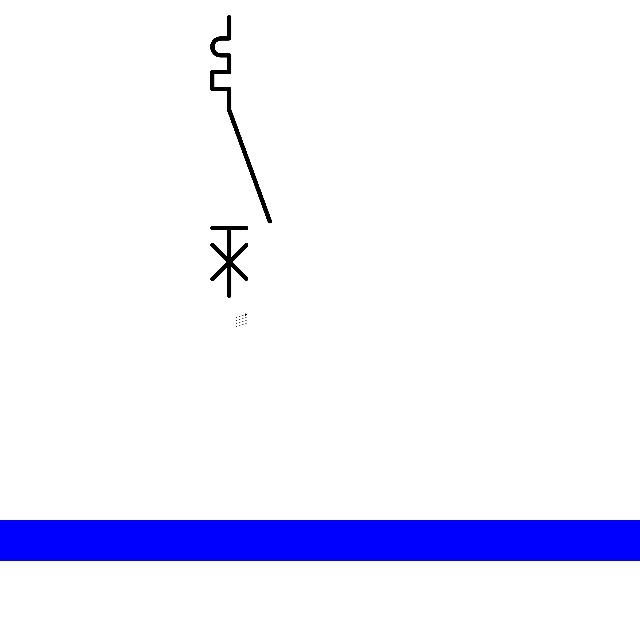interruptor_termomagnetico: (205, 10, 276, 303)
